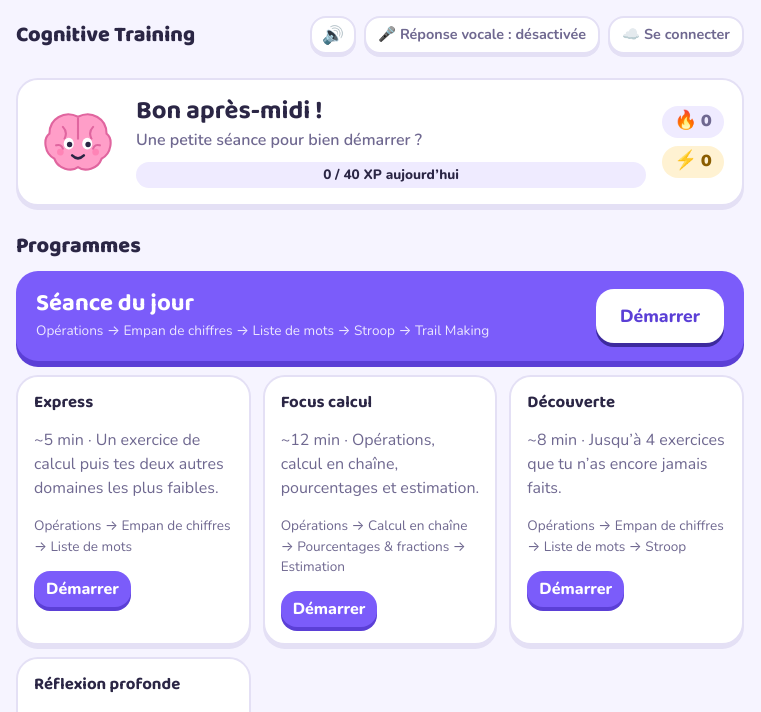
it: shared history › shows a sign-in error
Click the button "☁️ Se connecter" at [676, 35], box left=608, top=16, right=744, bottom=54
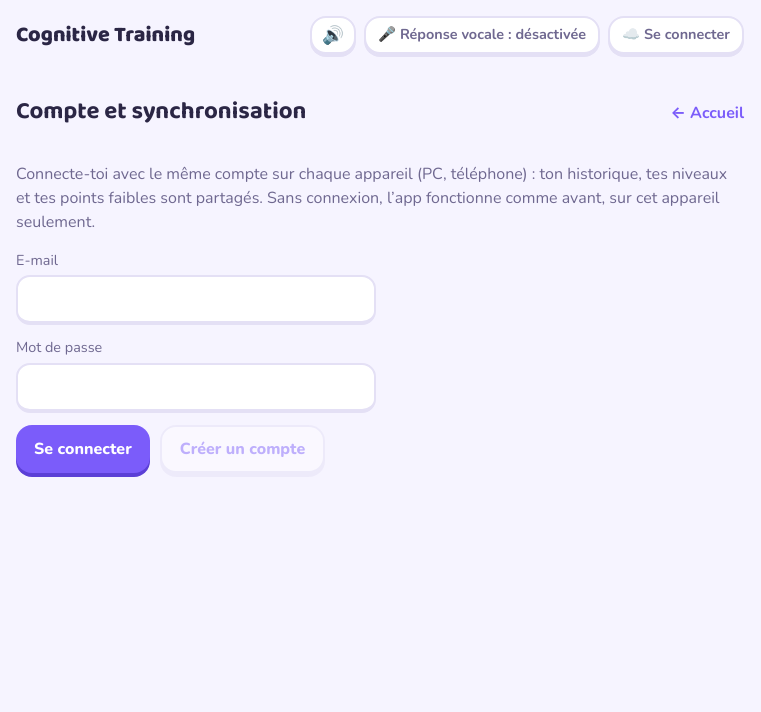
Type "moi@example.com" into the field labelled "E-mail" at [196, 300], box left=16, top=275, right=376, bottom=325
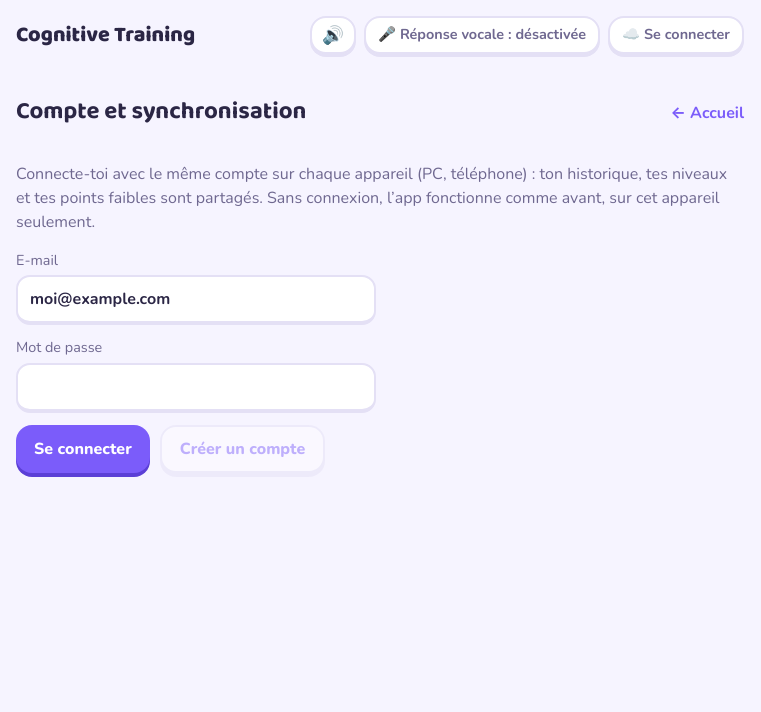
Type "mauvais-mdp" into the password field labelled "Mot de passe" at [196, 388], box left=16, top=363, right=376, bottom=413
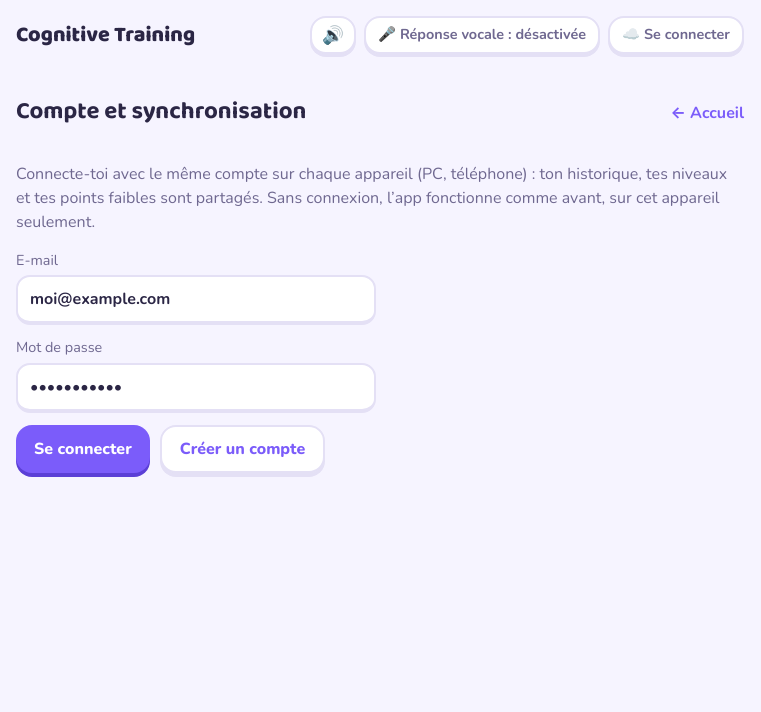
Submit the form labelled "E-mail", box left=16, top=250, right=376, bottom=473
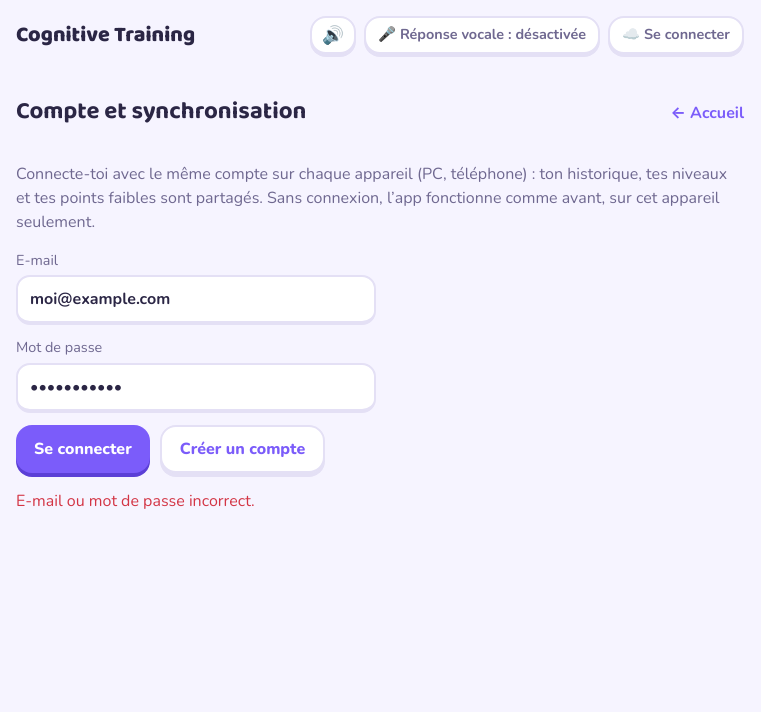
expect the message reads "E-mail ou mot de passe incorrect.": met, box left=16, top=490, right=255, bottom=512
